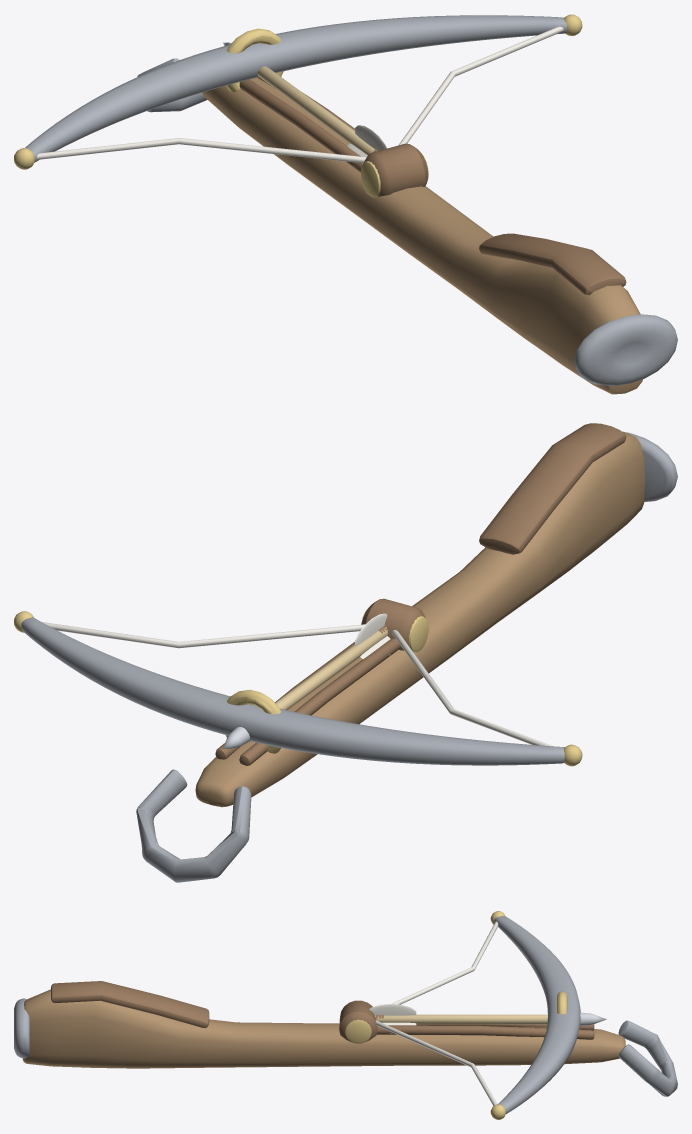
Rendered from th31_armbrust.glb.
3 renders of one model, top to bottom at view 1: azimuth 30°, elevation 25°; view 2: azimuth 150°, elevation 25°; view 3: azimuth 270°, elevation 25°, orthographic. The views are drawn at different scales.
Parts seen in each view (by area): view 1: Schaft, Bugel, Dreh.001, Rohr, Rohr.003, Dreh, Rohr.001, Rohr.008, Rohr.004, Torus, Rohr.007, Cylinder.007; view 2: Schaft, Bugel, Rohr, Rohr.007, Rohr.004, Rohr.001, Dreh.001, Rohr.008, Dreh, Rohr.003, Torus; view 3: Schaft, Bugel, Rohr, Rohr.007, Rohr.002, Rohr.008, Dreh, Dreh.001, Rohr.004, Rohr.003, Cylinder.007, Sphere.002 (+1 smaller).
Part boxes in pixels (x1,y1,x2,y2): Schaft: (202,77,642,394); Bugel: (25,15,567,162); Dreh.001: (574,314,677,385); Rohr: (479,233,626,295); Rohr.003: (37,138,366,163); Dreh: (364,143,428,196); Rohr.001: (239,79,363,172); Rohr.008: (257,66,375,155); Rohr.004: (399,26,563,145); Torus: (226,28,283,92); Rohr.007: (137,58,207,112); Cylinder.007: (360,152,428,197); Schaft: (195,431,644,807); Bugel: (21,617,564,765); Rohr: (479,423,626,554); Rohr.007: (136,769,251,882); Rohr.004: (42,622,364,648); Rohr.001: (239,638,400,765); Dreh.001: (626,432,677,501); Rohr.008: (275,627,387,709); Dreh: (361,598,425,650); Rohr.003: (392,630,552,746); Torus: (225,689,281,753); Schaft: (22,989,625,1068); Bugel: (494,916,580,1113); Rohr: (51,981,209,1027); Rohr.007: (618,1020,677,1096); Rohr.002: (376,1025,594,1039); Rohr.008: (375,1014,547,1024); Dreh: (339,1000,377,1042); Dreh.001: (14,998,29,1058); Rohr.004: (375,1020,497,1105); Rohr.003: (391,921,498,1004); Cylinder.007: (345,1019,371,1043); Sphere.002: (369,1004,416,1015).
Bounding box in the file's own units: 0.6609 × 0.1667 × 0.929.
